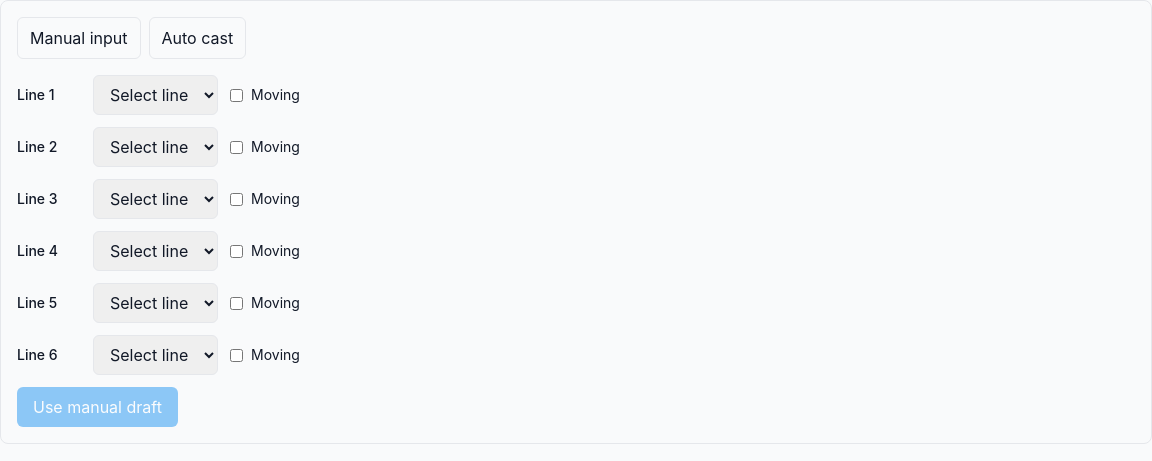
it: LiuyaoInput › renders localized English labels for liuyao input text
The width and height of the screenshot is (1152, 461).
Expected: the element named "Liuyao mode" is shown, [17,17,246,59]
Expected: the button "Manual input" is shown, [17,17,140,59]
What coordinates should you click on to do the following:
click the button "Auto cast"
I would click on:
 (197, 38)
Its box is [148,17,246,59].
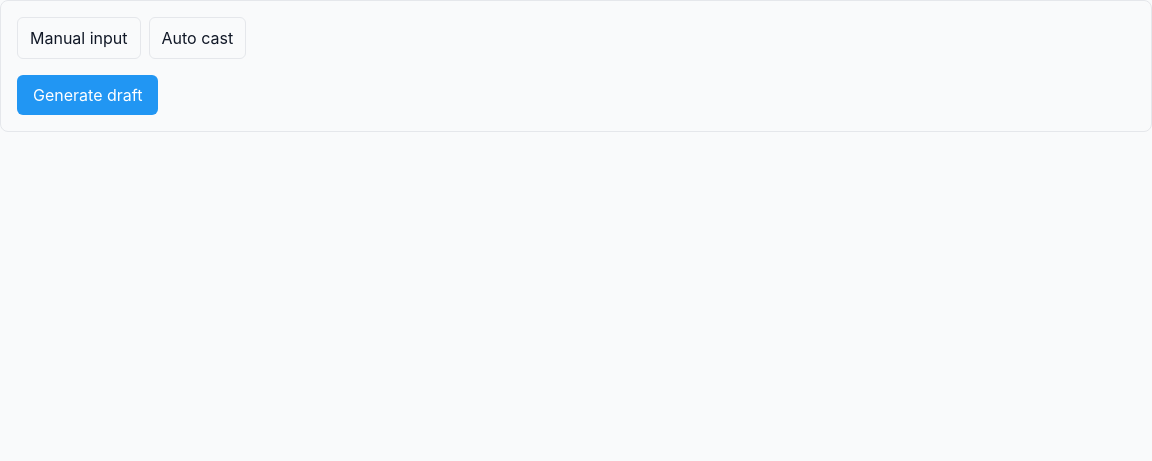
Expected: the button "Generate draft" is shown, [17,75,158,115]
